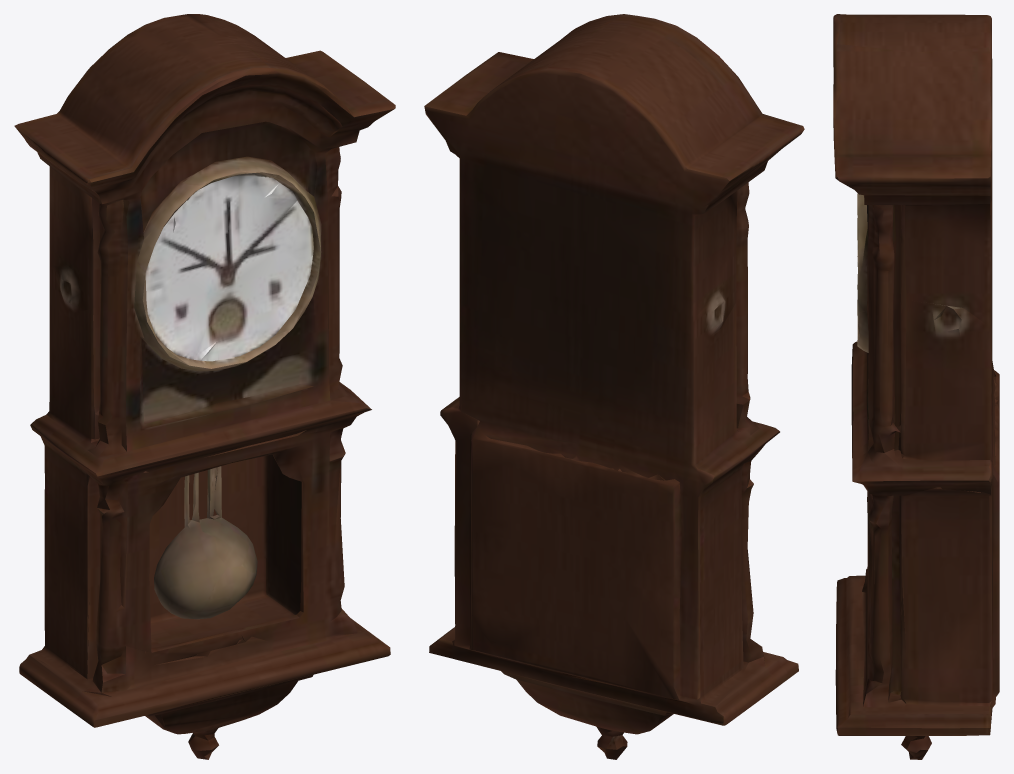
File: clock.glb
The picture shows the model from 3 angles, left to right: view 1: azimuth 30°, elevation 25°; view 2: azimuth 150°, elevation 25°; view 3: azimuth 270°, elevation 25°; orthographic projection. The views are drawn at different scales.
Parts seen in each view (by area): view 1: clock; view 2: clock; view 3: clock.
Boxes of the visible parts, box(x1,y1,x2,y2) form: clock: box(14, 14, 395, 759); clock: box(424, 14, 804, 759); clock: box(833, 14, 999, 759).
Bounding box in the file's own units: 0.3624 × 0.8 × 0.165.
1 material, 1 textured.
